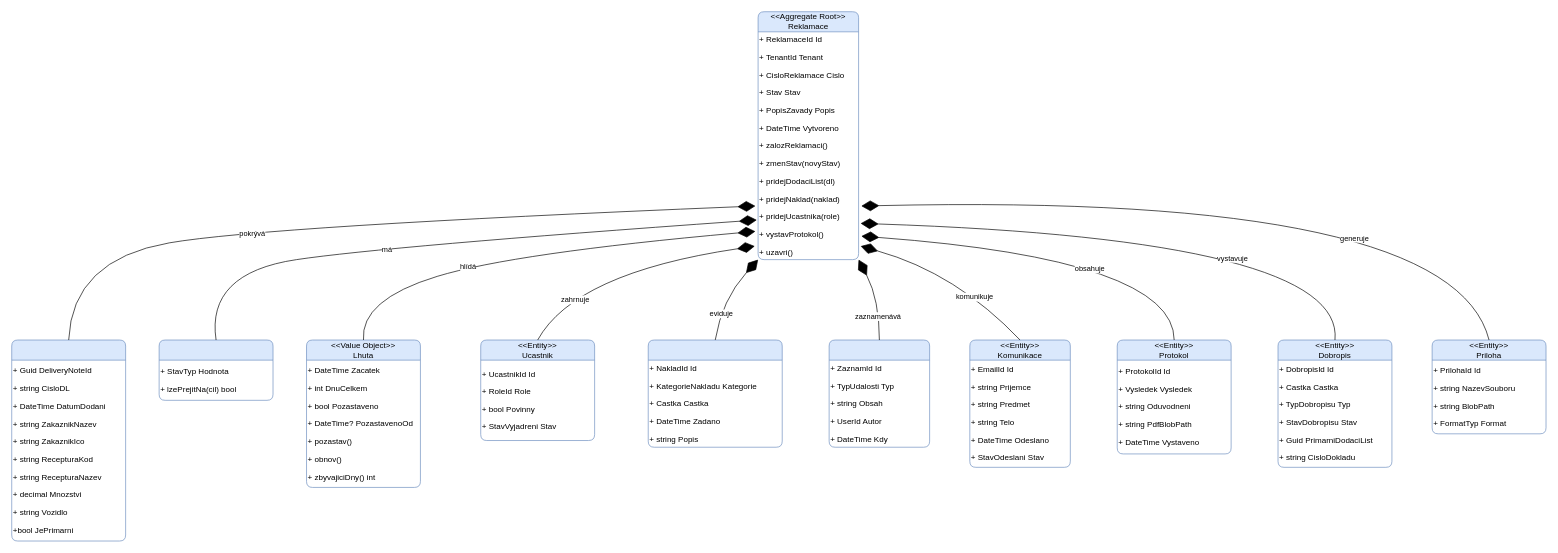
The diagram is 1558 pixels wide and 553 high, and some of its shapes have lost their labels. Here are the shapes that lost their labels. From the top down, the box of each, then its label:
(158, 339, 273, 400): <<Value Object>> Stav
(648, 339, 782, 447): <<Entity>> Naklad
(828, 339, 930, 447): <<Entity>> HistorieZaznam
(11, 339, 126, 541): <<Entity / Snapshot>> DodaciListSnapshot
